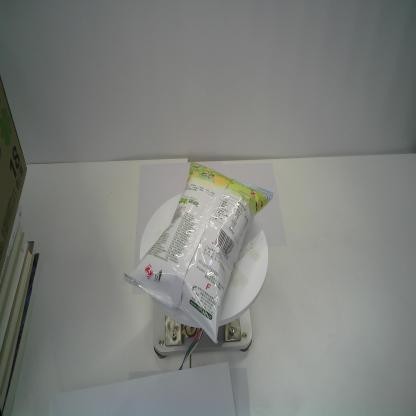Puffed Food: (122, 159, 275, 345)
